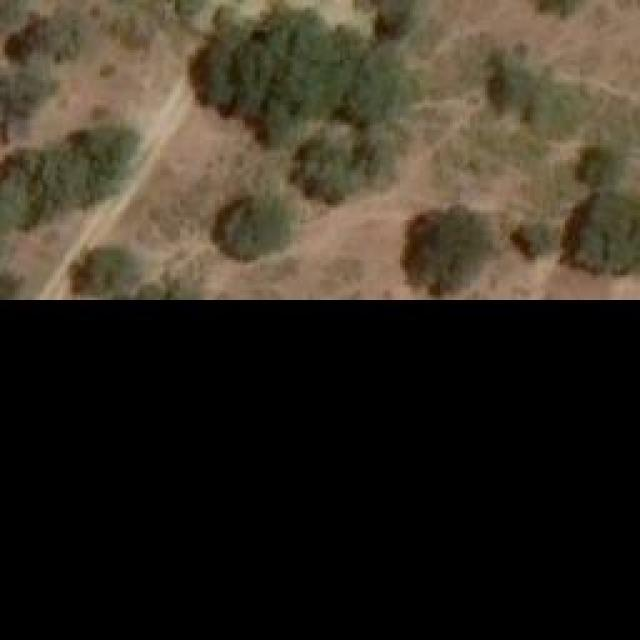Tree: (197, 3, 355, 136), (405, 205, 485, 285), (565, 195, 640, 275), (352, 43, 410, 123), (70, 240, 143, 298), (218, 202, 288, 260), (295, 138, 358, 201), (0, 72, 42, 137), (375, 0, 425, 40), (578, 145, 623, 185), (515, 220, 560, 260)
